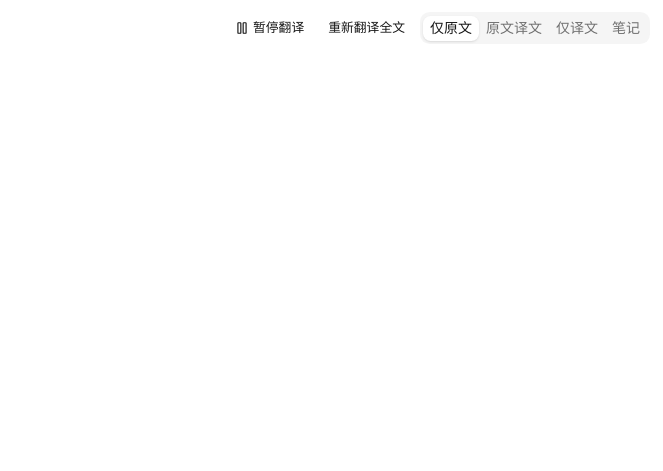
Test: does not claim parsing is active when waiting
Click the tab "原文译文": (514, 28) [479,16,549,40]
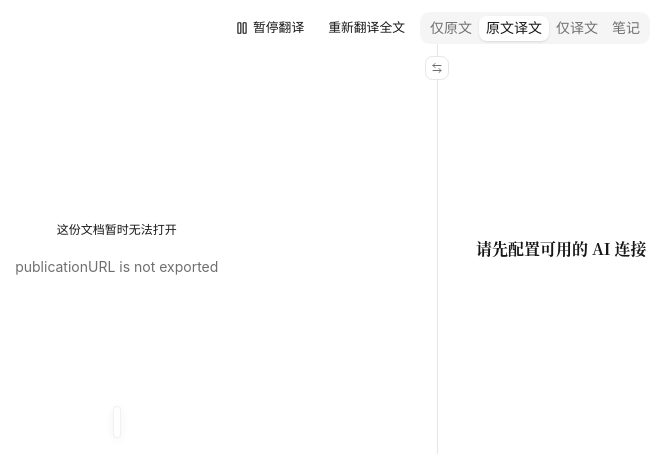
Result: the text "请先配置可用的 AI 连接" is shown at [476,236,647,260]
